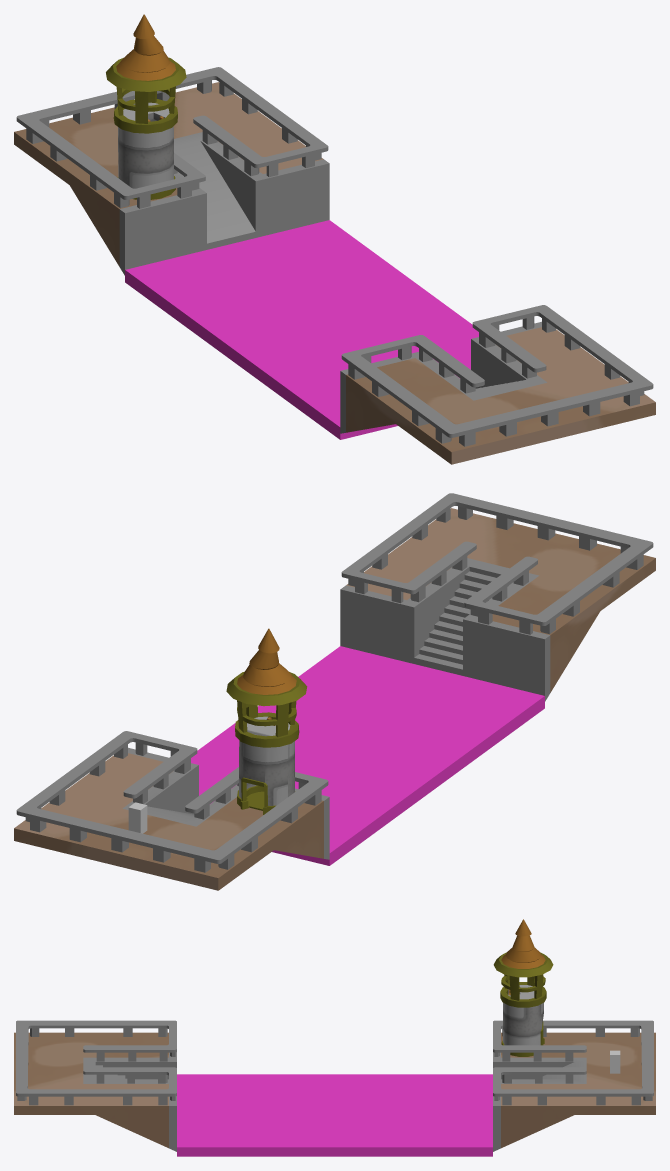
The model's file is Proto_level_01.fbx.
3 renders of one model, top to bottom at view 1: azimuth 30°, elevation 25°; view 2: azimuth 150°, elevation 25°; view 3: azimuth 270°, elevation 25°, orthographic. The views are drawn at different scales.
Visible parts, largest first — view 1: Cube, Higher_ground_01, Higher_ground_02, Fence _02, Fence _01, Tower_01; view 2: Cube, Higher_ground_02, Higher_ground_01, Fence _02, Fence _01, Tower_01; view 3: Cube, Higher_ground_02, Higher_ground_01, Fence _02, Fence _01, Tower_01.
Part boxes in pixels (x1,y1,x2,y2): Cube: (125,220,478,439); Higher_ground_01: (14,82,329,275); Higher_ground_02: (340,321,655,464); Fence _02: (341,305,653,446); Fence _01: (16,67,328,208); Tower_01: (106,14,186,199); Cube: (191,646,544,865); Higher_ground_02: (340,508,655,701); Higher_ground_01: (14,747,329,890); Fence _02: (341,493,653,634); Fence _01: (16,731,328,872); Tower_01: (226,628,307,814); Cube: (177,1074,492,1156); Higher_ground_02: (14,1032,176,1151); Higher_ground_01: (493,1032,655,1151); Fence _02: (16,1020,176,1105); Fence _01: (493,1020,653,1105); Tower_01: (493,919,553,1056).
Size of the model in its own units: 1700 by 1932 by 6300.
